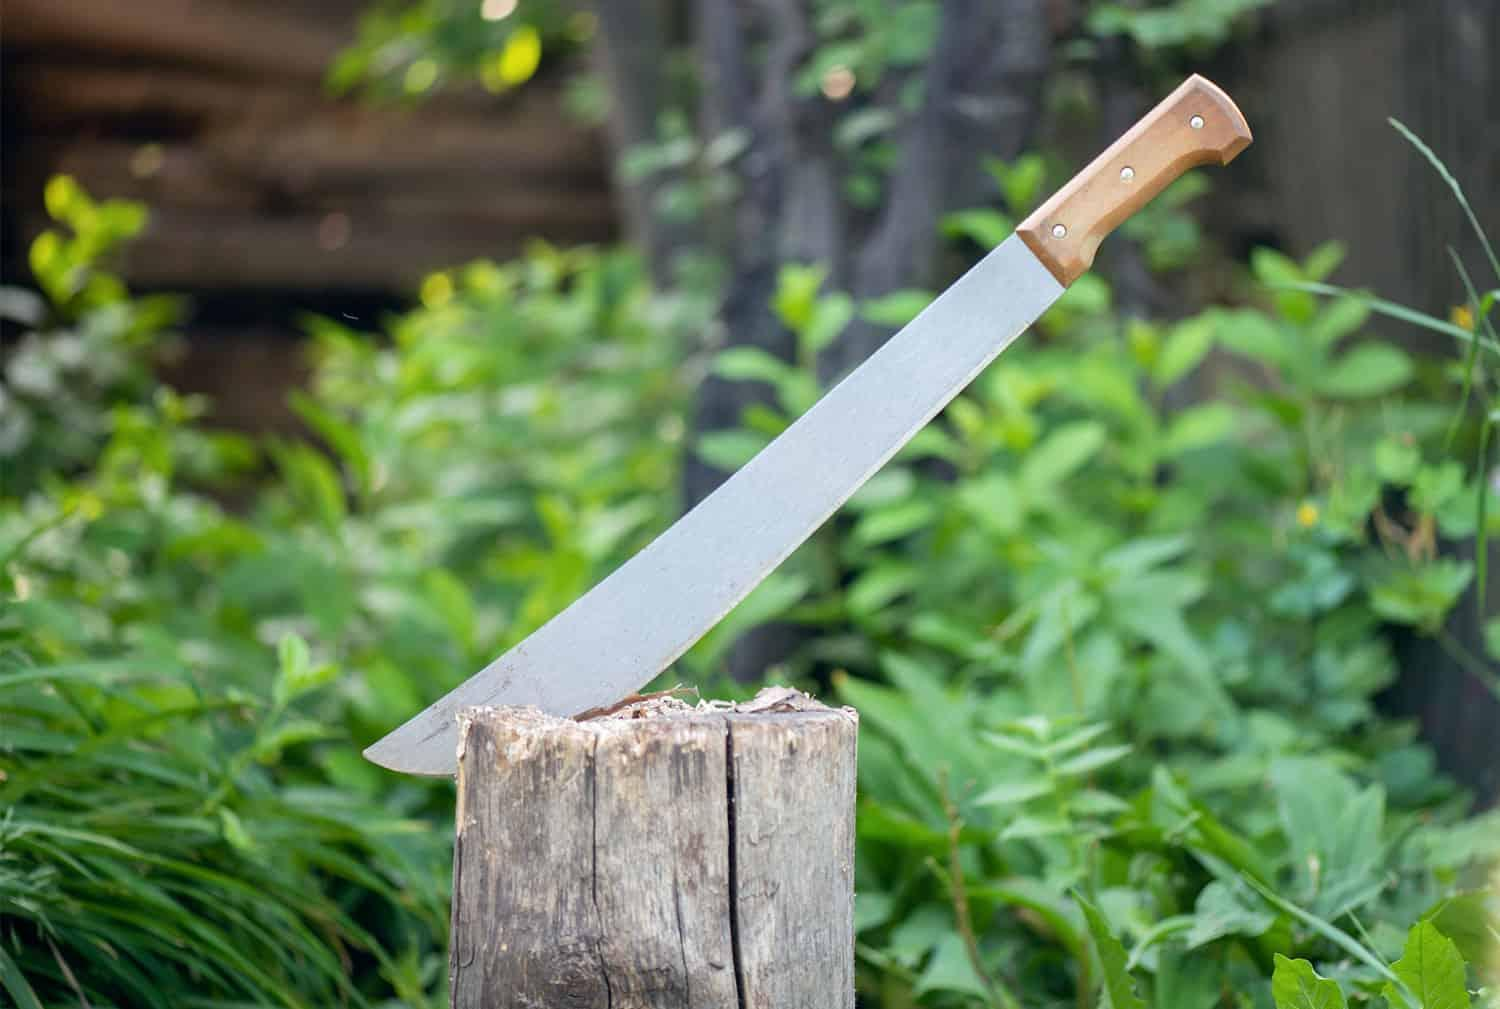facao: (375, 69, 1251, 783)
